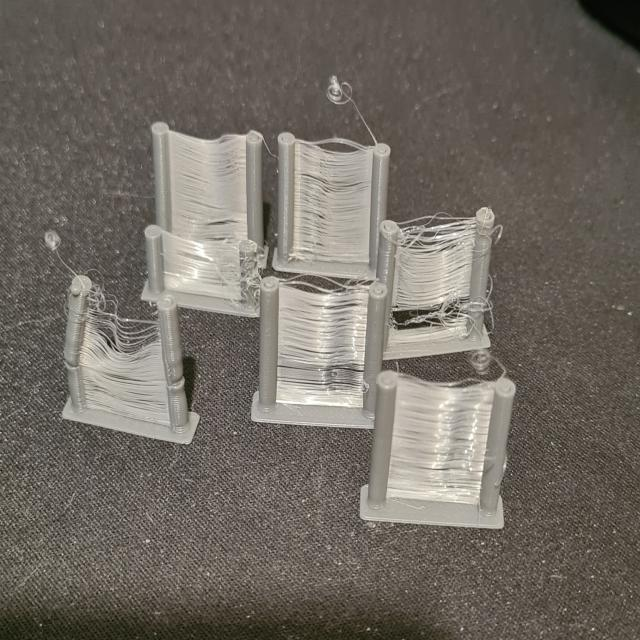stringing: (388, 376, 493, 497), (161, 134, 250, 275), (289, 136, 379, 262), (77, 314, 175, 420), (272, 295, 370, 401), (393, 220, 478, 294), (324, 74, 364, 110)
